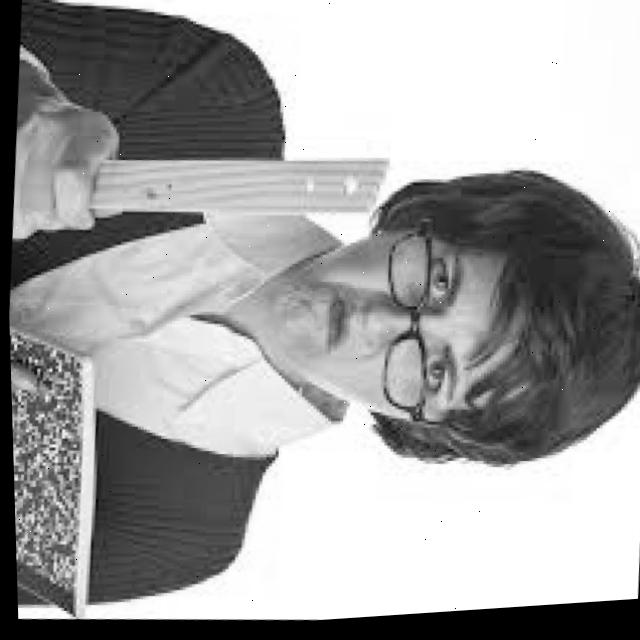angry: (222, 147, 640, 500)
